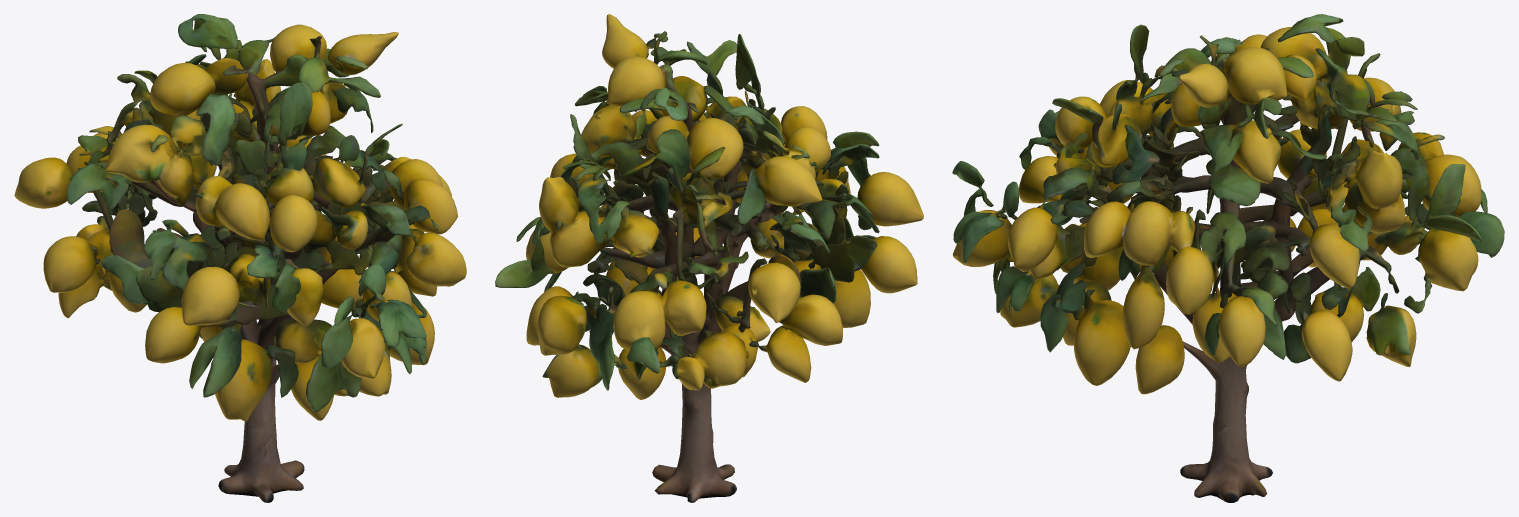
File: nature-tree-lemon.glb
The picture shows the model from 3 angles, left to right: view 1: azimuth 30°, elevation 25°; view 2: azimuth 150°, elevation 25°; view 3: azimuth 270°, elevation 25°; orthographic projection. The views are drawn at different scales.
Visible parts, largest first — view 1: tripo_node_9325886f-8f42-4f19-bfe5-30346d1ed662; view 2: tripo_node_9325886f-8f42-4f19-bfe5-30346d1ed662; view 3: tripo_node_9325886f-8f42-4f19-bfe5-30346d1ed662.
Part boxes in pixels (x1=…): tripo_node_9325886f-8f42-4f19-bfe5-30346d1ed662: x1=14, y1=14, x2=466, y2=502; tripo_node_9325886f-8f42-4f19-bfe5-30346d1ed662: x1=495, y1=14, x2=923, y2=502; tripo_node_9325886f-8f42-4f19-bfe5-30346d1ed662: x1=952, y1=14, x2=1504, y2=502.
Size of the model in its own units: 3.66 by 4.5 by 4.73.
Materials: 1 (1 with a texture image).
